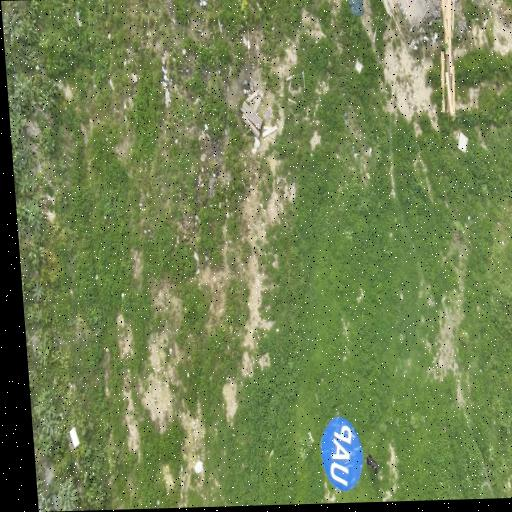person: (365, 454, 377, 474)
uap: (320, 416, 362, 490)
